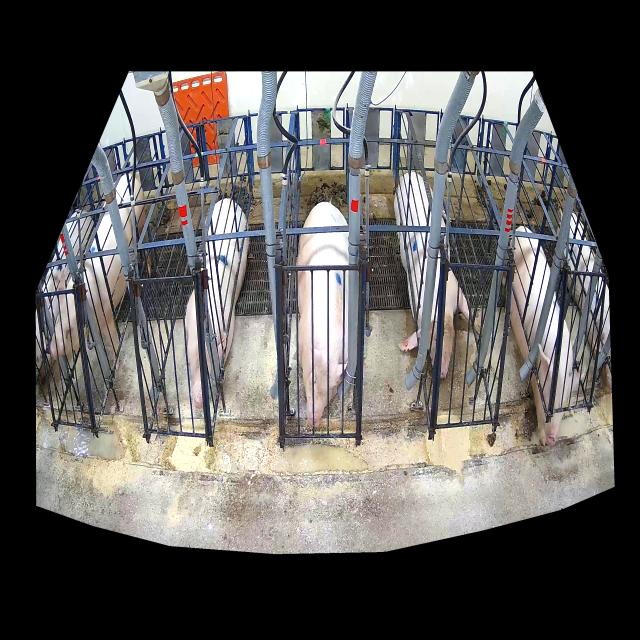pig: (50, 177, 152, 370), (394, 172, 469, 379), (510, 226, 573, 445), (185, 198, 249, 409), (298, 202, 348, 427)
